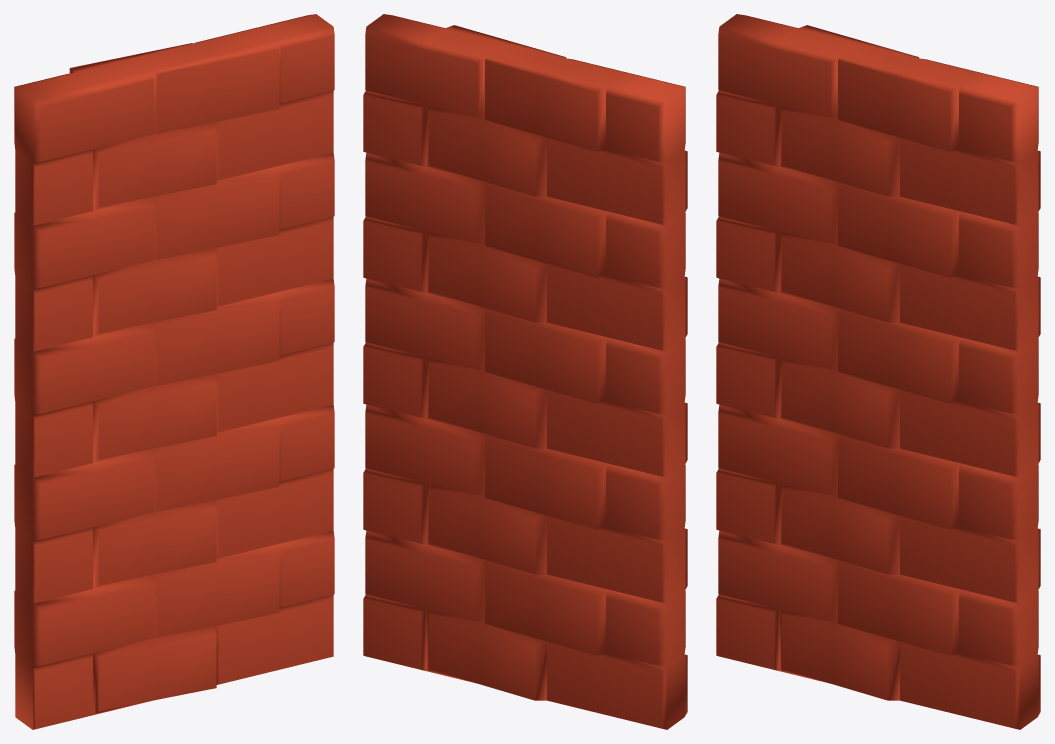
The model's file is BrickWall.002.glb.
3 renders of one model, left to right at view 1: azimuth 30°, elevation 25°; view 2: azimuth 150°, elevation 25°; view 3: azimuth 330°, elevation 25°, orthographic.
Visible parts, largest first — view 1: BrickWall.002; view 2: BrickWall.002; view 3: BrickWall.002.
Part boxes in pixels (x1=…): BrickWall.002: x1=14, y1=14, x2=334, y2=729; BrickWall.002: x1=363, y1=14, x2=687, y2=729; BrickWall.002: x1=716, y1=14, x2=1040, y2=729.
Size of what is drawn, in the model's own units: 1.99 by 3.98 by 0.3841.
Materials: 1 (1 with a texture image).
